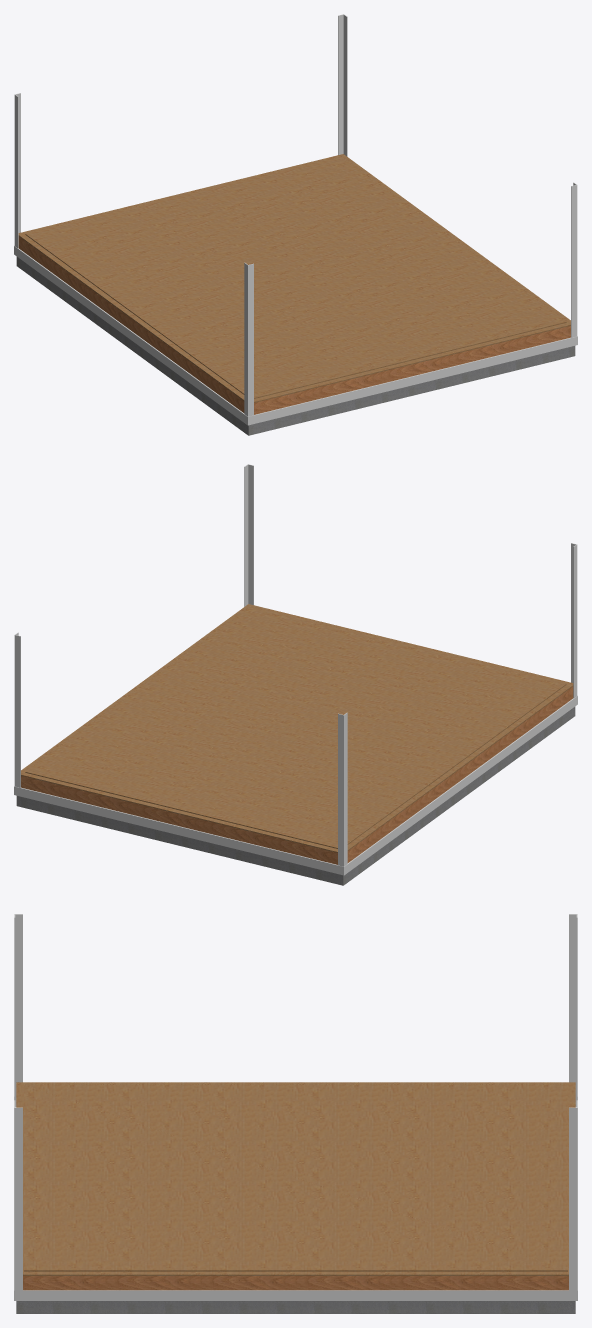
File: 2storey_20x24_GFBlock.glb
3 renders of one model, top to bottom at view 1: azimuth 30°, elevation 25°; view 2: azimuth 150°, elevation 25°; view 3: azimuth 270°, elevation 25°, orthographic. The views are drawn at different scales.
Visible parts, largest first — view 1: GF_floorfinish, trims, GF_framing, concrete_foundation; view 2: GF_floorfinish, trims, GF_framing, concrete_foundation; view 3: GF_floorfinish, trims, GF_framing, concrete_foundation.
Part boxes in pixels (box(x1,y1,x2,y2)): GF_floorfinish: box(18, 154, 570, 402); trims: box(14, 14, 577, 425); GF_framing: box(18, 236, 570, 414); concrete_foundation: box(16, 256, 575, 435); GF_floorfinish: box(21, 604, 573, 852); trims: box(14, 464, 577, 875); GF_framing: box(21, 686, 573, 864); concrete_foundation: box(16, 706, 575, 885); GF_floorfinish: box(16, 1082, 575, 1275); trims: box(14, 914, 577, 1300); GF_framing: box(23, 1276, 568, 1290); concrete_foundation: box(16, 1301, 575, 1313).
Size of the model in its own units: 6.16 by 3.05 by 7.56.
Materials: 4 (3 with a texture image).
